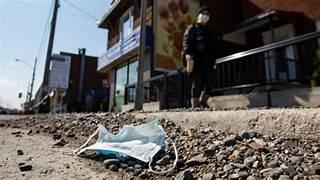Mask: (75, 120, 177, 173), (77, 121, 165, 161), (198, 13, 209, 23)
